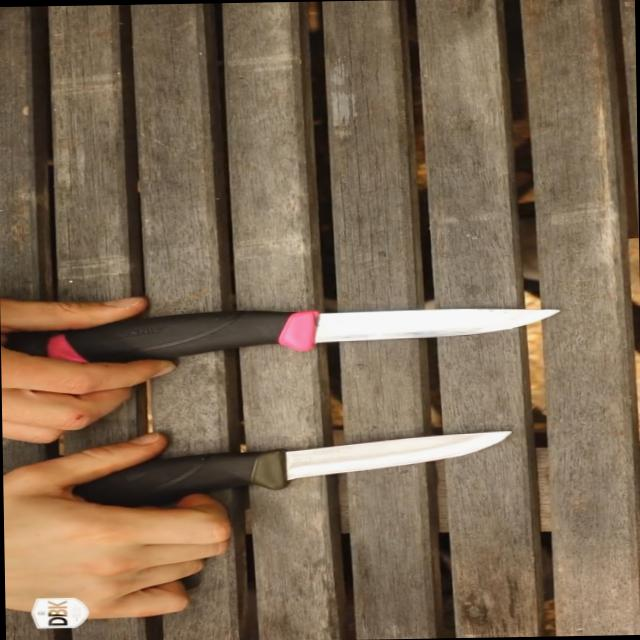knife: (88, 424, 523, 556), (86, 294, 572, 382)
